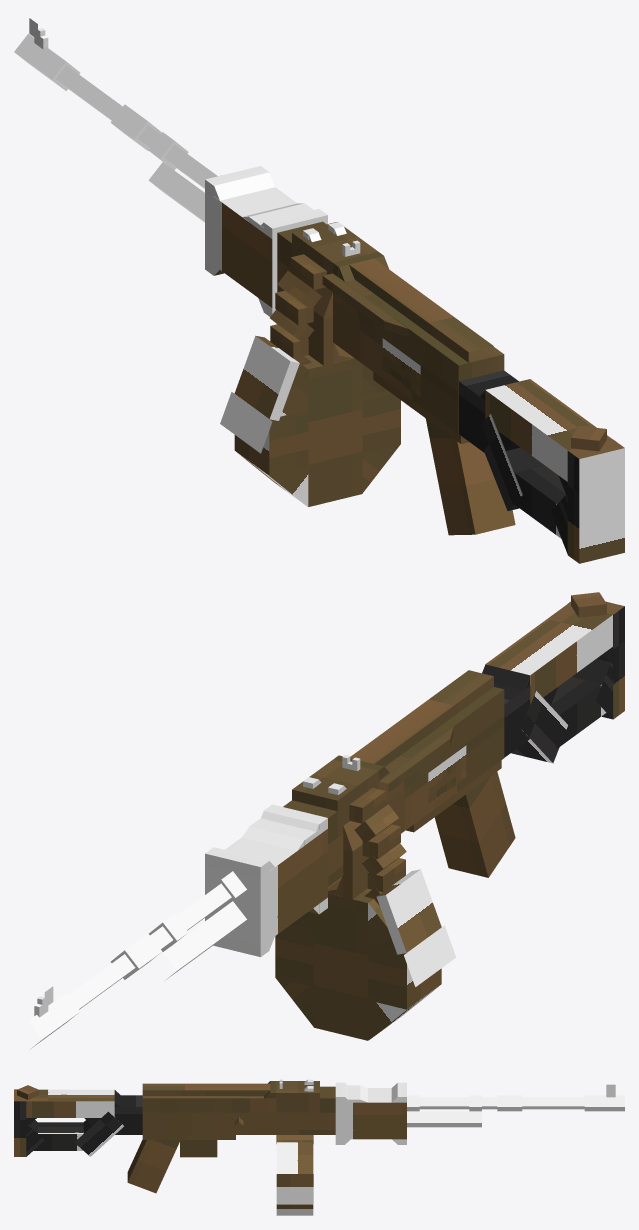
The model's file is aurorasarsenal_rpd.glb.
The picture shows the model from 3 angles, top to bottom: view 1: azimuth 30°, elevation 25°; view 2: azimuth 150°, elevation 25°; view 3: azimuth 270°, elevation 25°; orthographic projection. The views are drawn at different scales.
Visible parts, largest first — view 1: Gun; view 2: Gun; view 3: Gun.
Boxes of the visible parts, x1,y1,x2,y2 form: Gun: [14, 18, 624, 563]; Gun: [28, 592, 624, 1048]; Gun: [14, 1079, 624, 1215].
Bounding box in the file's own units: 0.1769 × 0.2938 × 1.23.
Materials: 1 (1 with a texture image).
